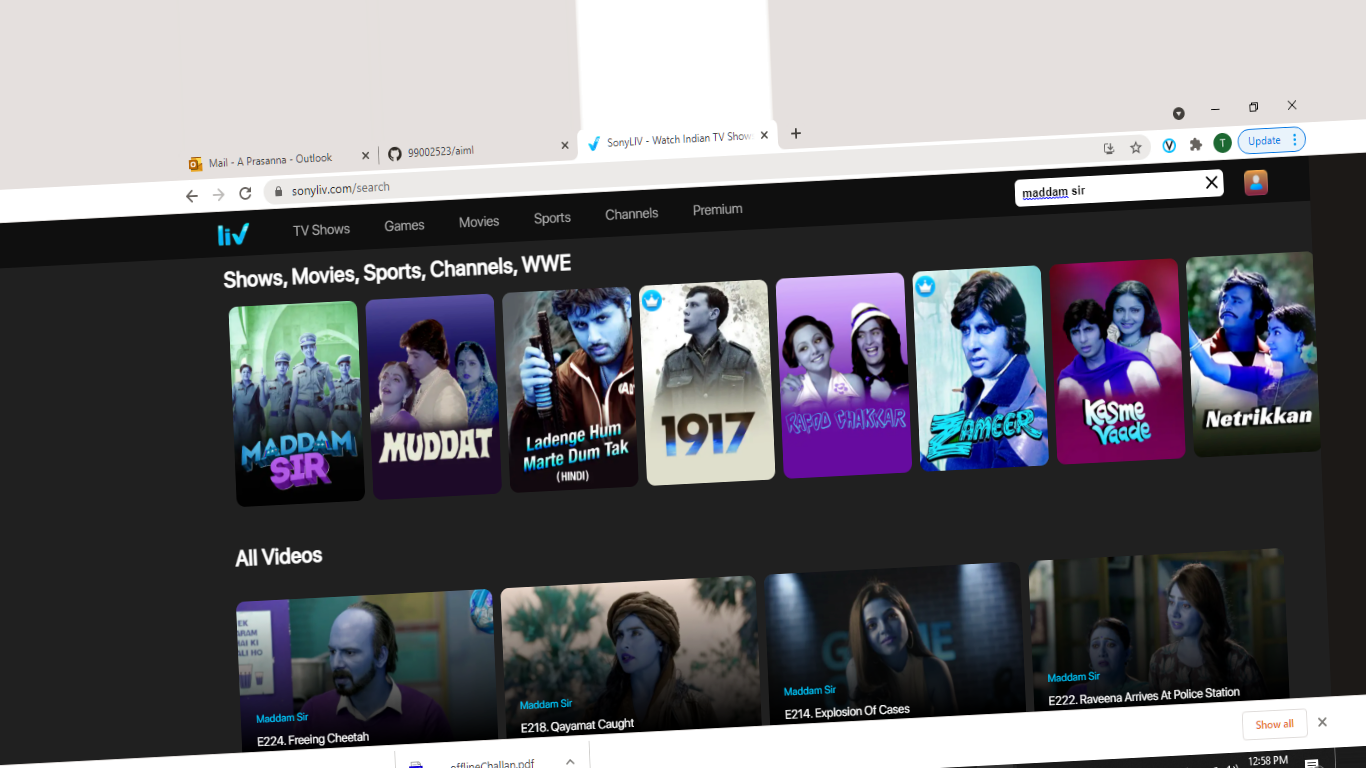profileicon: (1233, 163, 1279, 200)
resultsfound: (197, 255, 603, 295)
searchtextbox: (1005, 166, 1225, 211)
